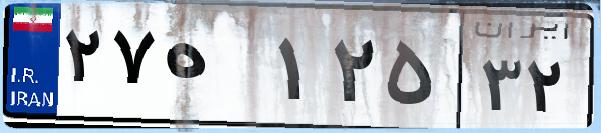1: (270, 28, 330, 110)
2: (330, 28, 385, 110), (57, 26, 110, 100), (525, 38, 570, 115)
3: (475, 38, 525, 113)
5: (385, 28, 445, 110)
7: (110, 28, 158, 98)
ه: (158, 20, 270, 120)
